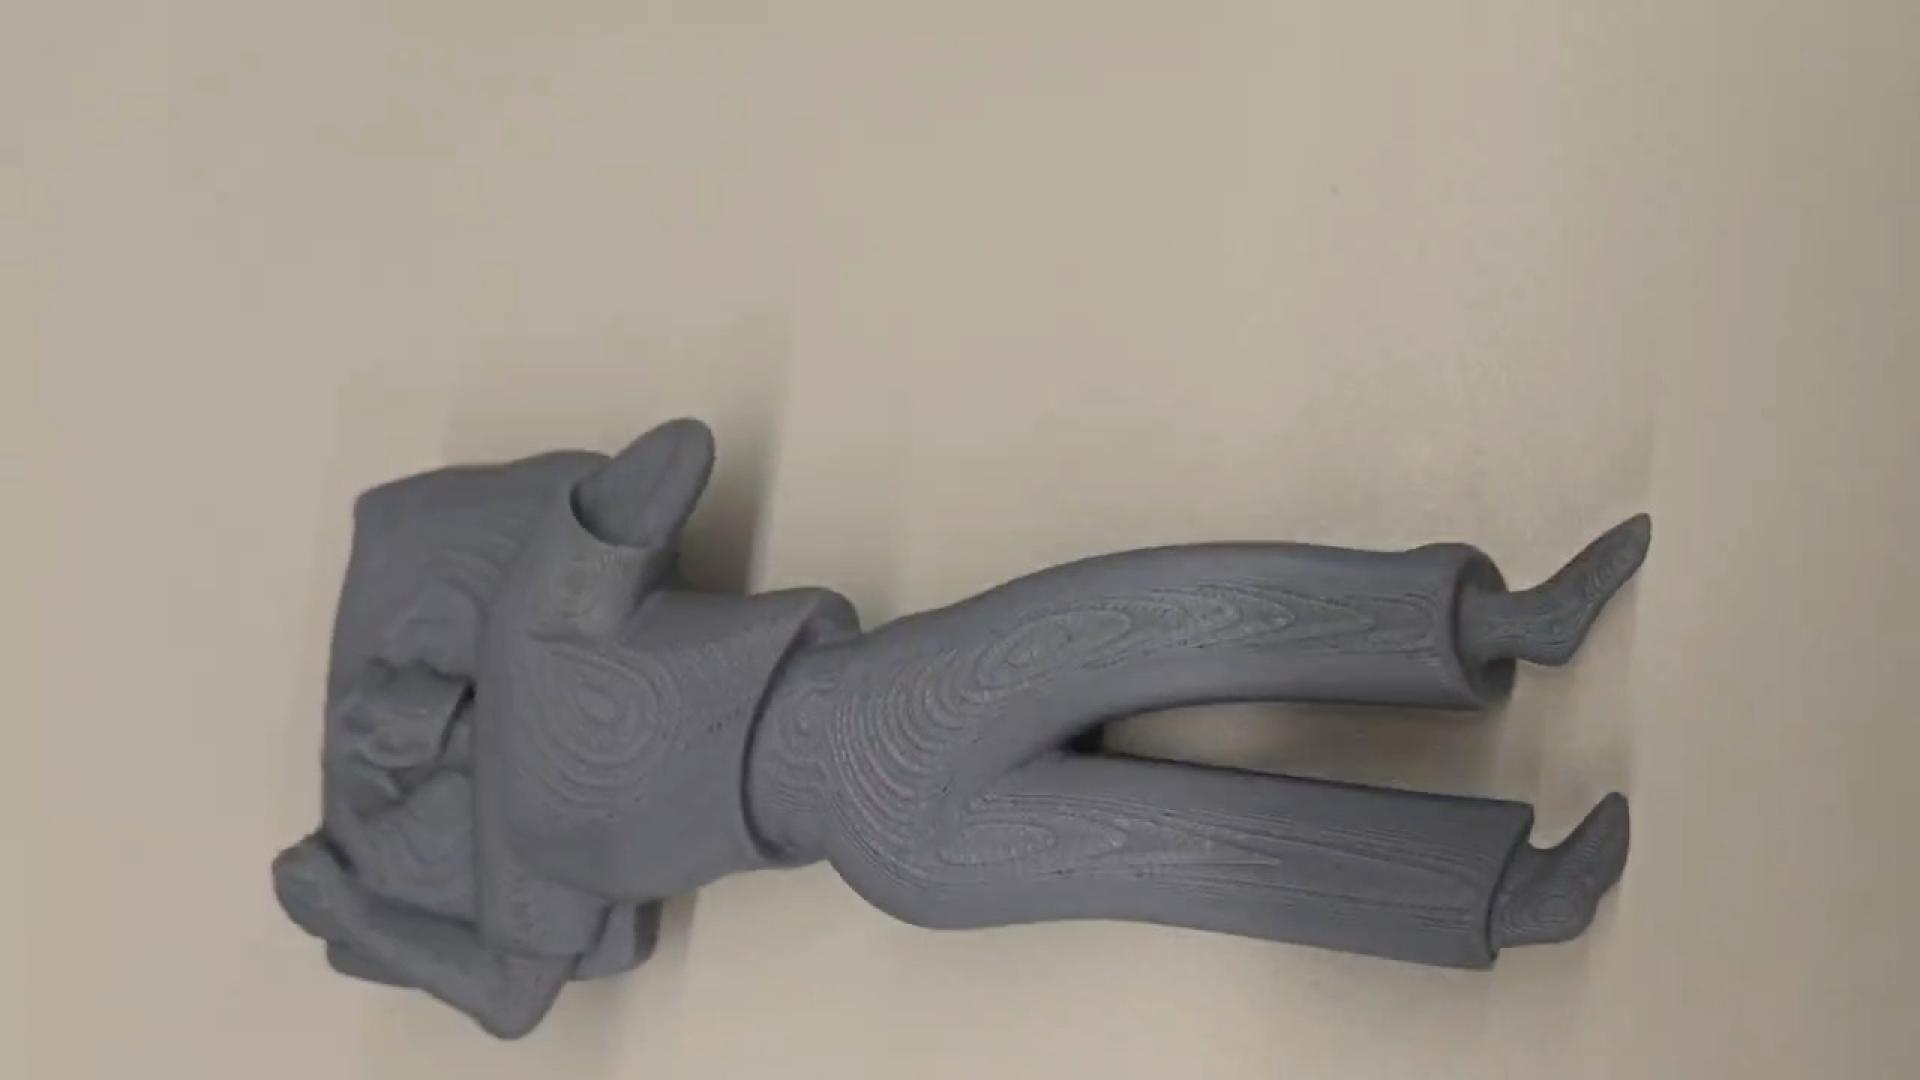Bad-style: (273, 414, 1665, 1048)
